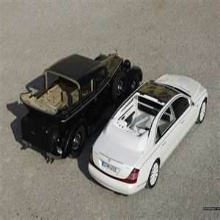no damage: (20, 53, 209, 196)
